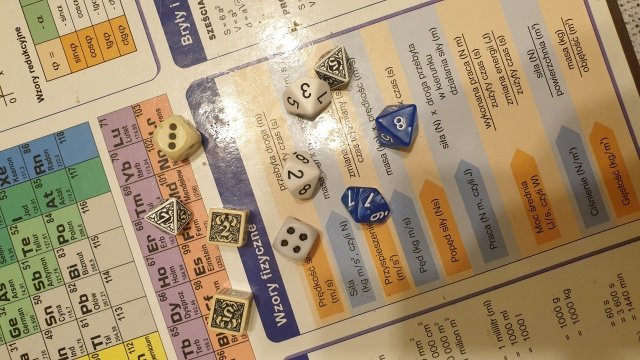d10-1: (338, 183, 394, 229)
d10-2: (278, 147, 323, 204)
d10-3: (282, 74, 336, 123)
d10-8: (374, 98, 418, 151)
d6-3: (149, 113, 201, 163)
d6-4: (270, 216, 317, 265)
d6p-2: (201, 207, 251, 247)
d6p-5: (205, 287, 252, 338)
d8p-5: (308, 39, 355, 91)
d8p-7: (142, 193, 192, 238)
